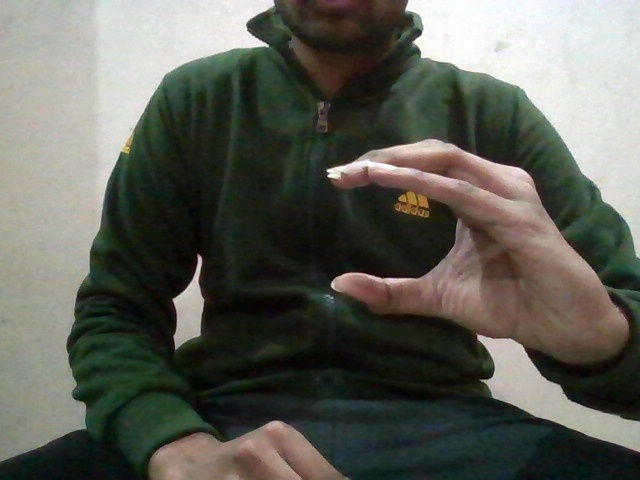C: (320, 135, 630, 352)
